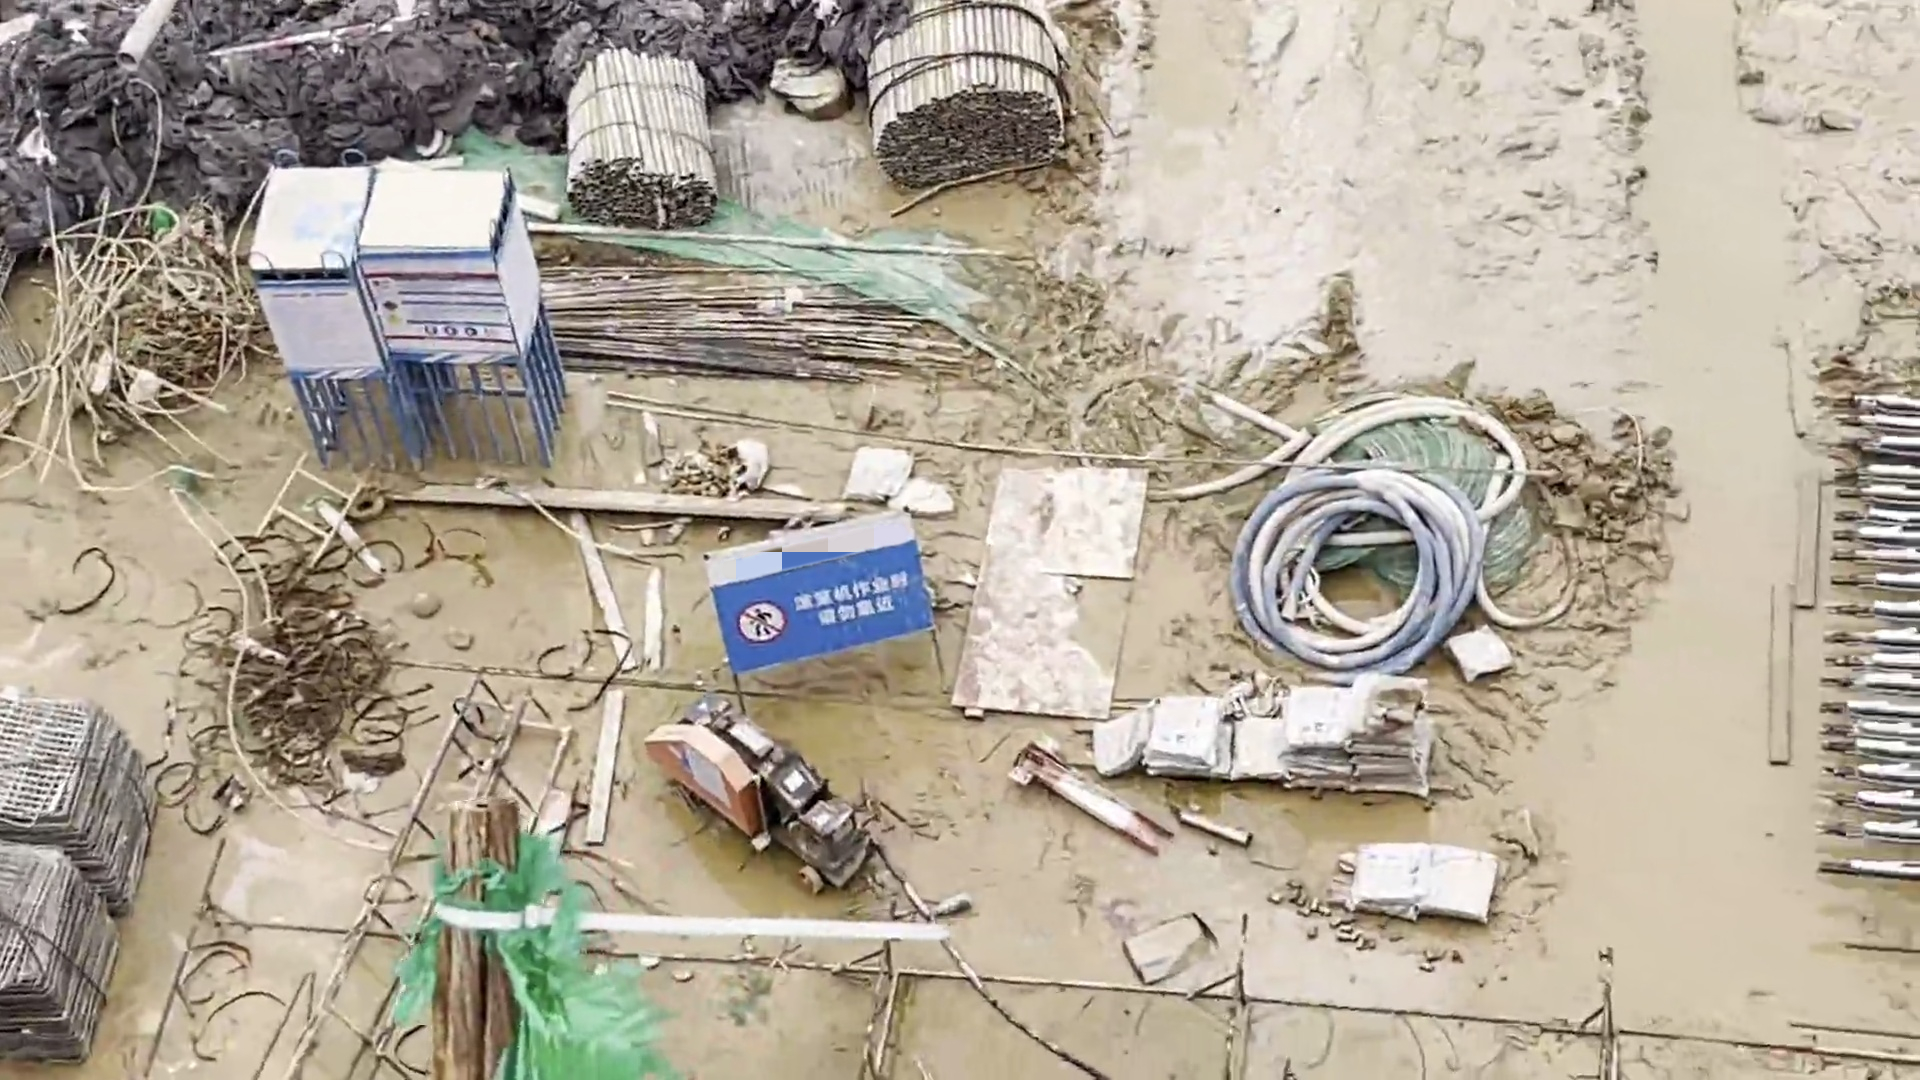slogan: (709, 505, 936, 683)
